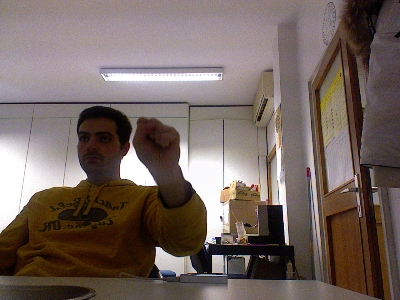石头: (131, 114, 181, 171)
